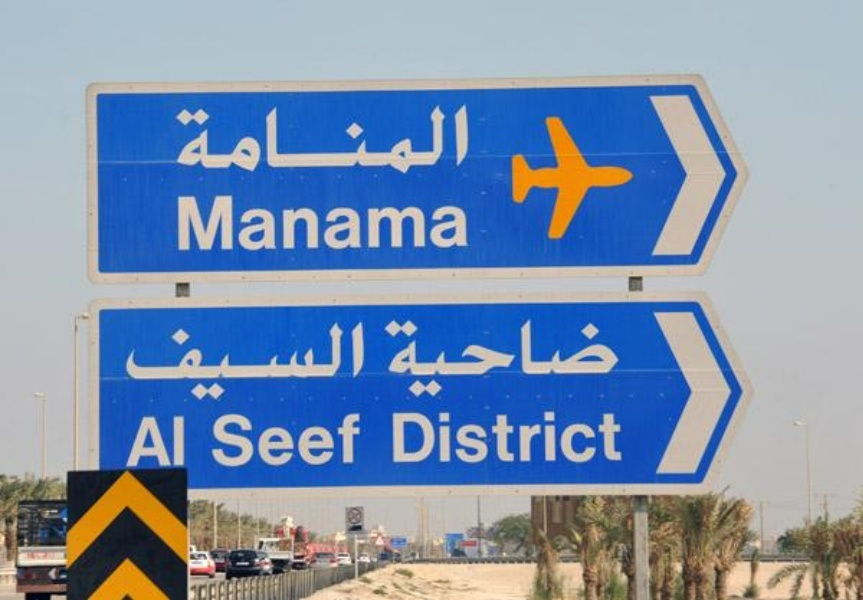text: (353, 320, 369, 403), (129, 320, 144, 403), (145, 320, 160, 403), (161, 320, 176, 403), (177, 320, 192, 403), (193, 320, 208, 403), (209, 320, 224, 403), (225, 320, 240, 403), (241, 320, 256, 403), (257, 320, 272, 403), (273, 320, 288, 403), (289, 320, 304, 403), (305, 320, 320, 403), (321, 320, 336, 403), (337, 320, 352, 403), (401, 317, 416, 399), (417, 317, 432, 399), (433, 317, 448, 399), (449, 317, 464, 399), (465, 317, 480, 399), (481, 317, 496, 399), (497, 317, 512, 399), (513, 317, 528, 399), (529, 317, 544, 399), (545, 317, 560, 399), (561, 317, 576, 399), (577, 317, 592, 399), (593, 317, 608, 399), (386, 317, 400, 399), (177, 103, 192, 179), (193, 103, 208, 179), (209, 103, 224, 179), (225, 103, 240, 179), (241, 103, 256, 179), (257, 103, 272, 179), (273, 103, 288, 179), (289, 103, 304, 179), (305, 103, 320, 179), (321, 103, 336, 179), (337, 103, 352, 179), (353, 103, 368, 179), (369, 103, 384, 179), (385, 103, 400, 179), (401, 103, 416, 179), (417, 103, 432, 179), (433, 103, 448, 179), (449, 103, 464, 179), (177, 190, 192, 254), (193, 190, 208, 254), (209, 190, 224, 254), (225, 190, 240, 254), (241, 190, 256, 254), (257, 190, 272, 254), (273, 190, 288, 254), (289, 190, 304, 254), (305, 190, 320, 254), (321, 190, 336, 254), (337, 190, 352, 254), (353, 190, 368, 254), (369, 190, 384, 254), (385, 190, 400, 254), (401, 190, 416, 254), (417, 190, 432, 254), (433, 190, 448, 254), (449, 190, 464, 254), (225, 412, 240, 468), (241, 412, 256, 468), (257, 412, 272, 468), (273, 412, 288, 468), (289, 412, 304, 468), (305, 412, 320, 468), (321, 412, 336, 468), (337, 412, 352, 468), (401, 411, 416, 467), (417, 411, 432, 467), (433, 411, 448, 467), (449, 411, 464, 467), (465, 411, 480, 467), (481, 411, 496, 467), (497, 411, 512, 467), (513, 411, 528, 467), (529, 411, 544, 467), (545, 411, 560, 467), (561, 411, 576, 467), (577, 411, 592, 467), (593, 411, 608, 467), (609, 411, 624, 467), (129, 413, 144, 468), (145, 413, 160, 468), (161, 413, 176, 468), (609, 317, 619, 399), (210, 412, 224, 468), (353, 412, 366, 468), (177, 413, 190, 468), (390, 411, 400, 467), (465, 103, 472, 179), (465, 190, 471, 254), (173, 103, 176, 179), (126, 320, 128, 403), (175, 190, 176, 254), (625, 411, 626, 467), (127, 413, 128, 468)
